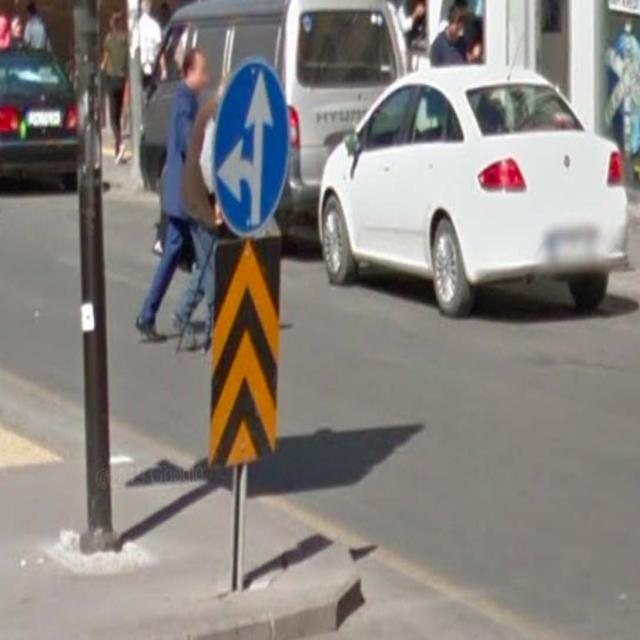ilerisol: (212, 58, 288, 236)
